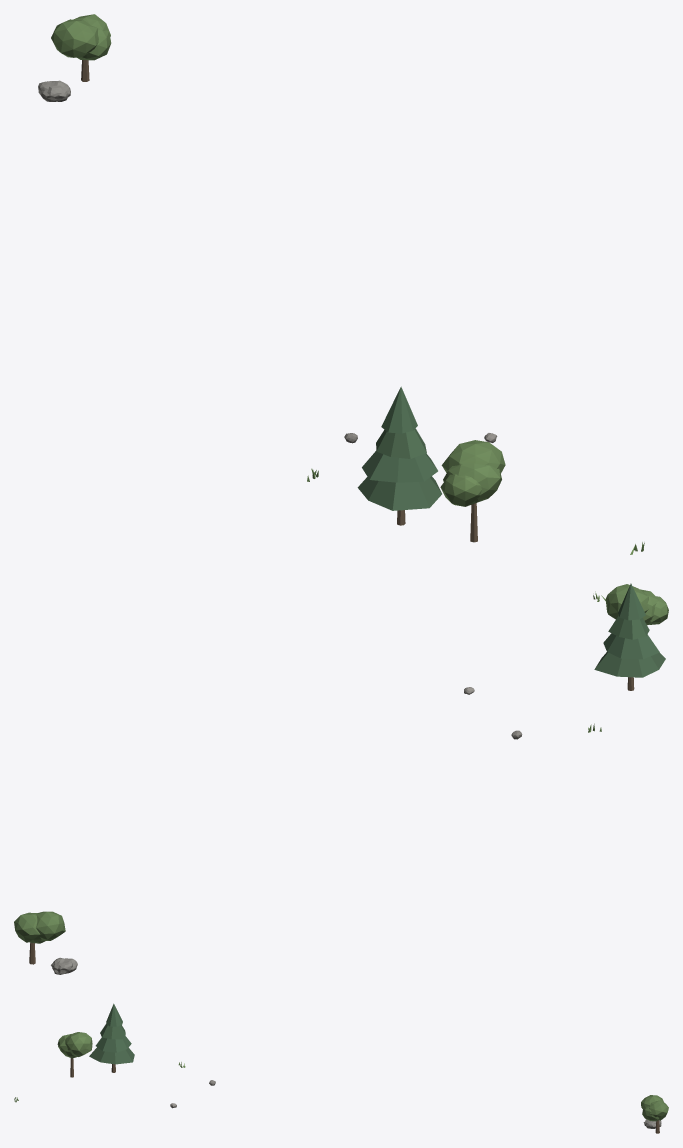
File: arch_land_scatter_c22_18.glb
The picture shows the model from 3 angles, top to bottom: view 1: azimuth 30°, elevation 25°; view 2: azimuth 150°, elevation 25°; view 3: azimuth 270°, elevation 25°; orthographic projection. The views are drawn at different scales.
Visible parts, largest first — view 1: arch_land_scatter_c22_18; view 2: arch_land_scatter_c22_18; view 3: arch_land_scatter_c22_18.
Part boxes in pixels (x1,y1,x2,y2): arch_land_scatter_c22_18: (38,14,644,554); arch_land_scatter_c22_18: (14,583,668,974); arch_land_scatter_c22_18: (14,1003,668,1133).
Size of the model in its own units: 23.46 by 12.25 by 93.72.
